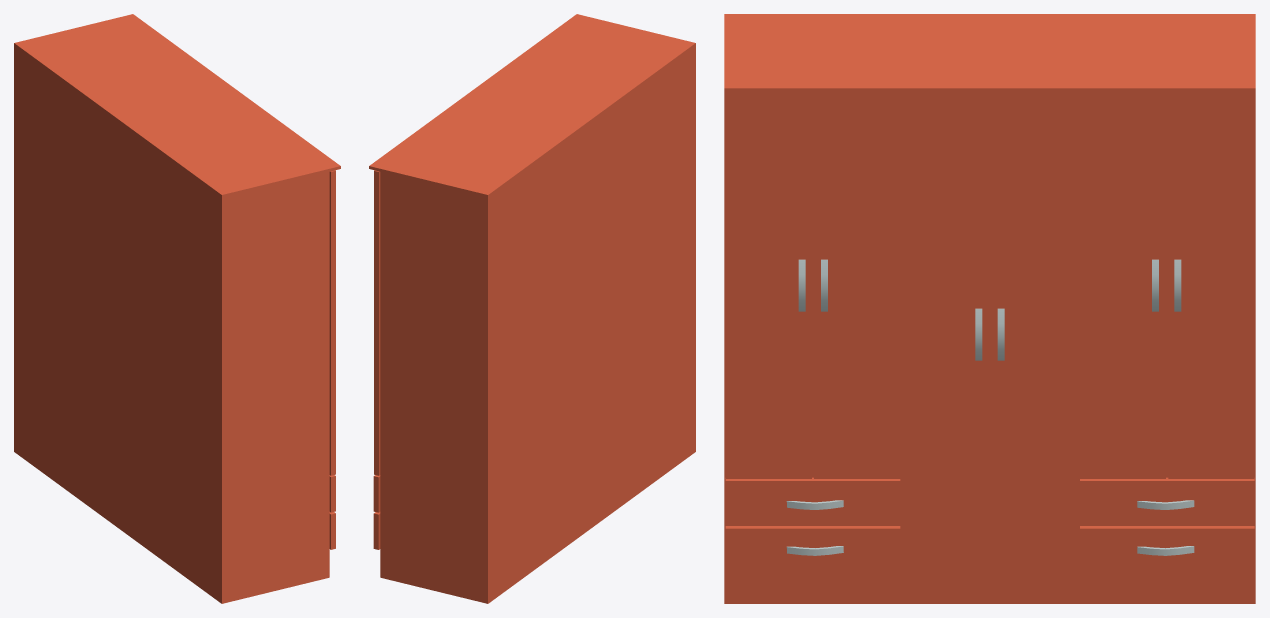
The model's file is Placard.fbx.
3 renders of one model, left to right at view 1: azimuth 30°, elevation 25°; view 2: azimuth 150°, elevation 25°; view 3: azimuth 270°, elevation 25°, orthographic. The views are drawn at different scales.
Parts seen in each view (by area): view 1: Placard; view 2: Placard; view 3: Placard.
Part boxes in pixels (box(x1,y1,x2,y2)): Placard: box(14, 14, 340, 603); Placard: box(369, 14, 695, 603); Placard: box(724, 14, 1255, 603).
Bounding box in the file's own units: 144 × 472 × 434.
